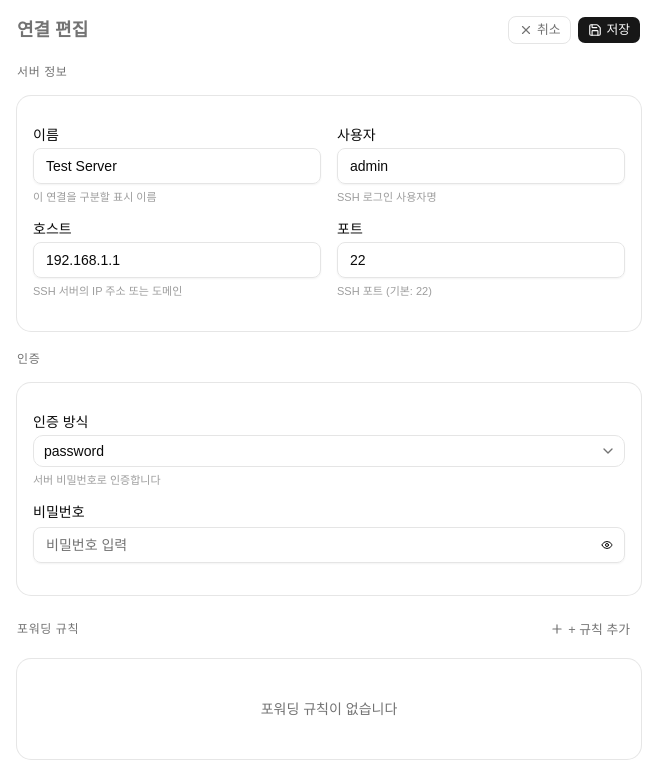
Test: ConnectionForm › shows error message when save fails
The image size is (659, 760).
What coordinates should you click on to do the following:
click the button "저장"
I would click on:
 (609, 30)
Its box is top-left (578, 16), bottom-right (641, 44).
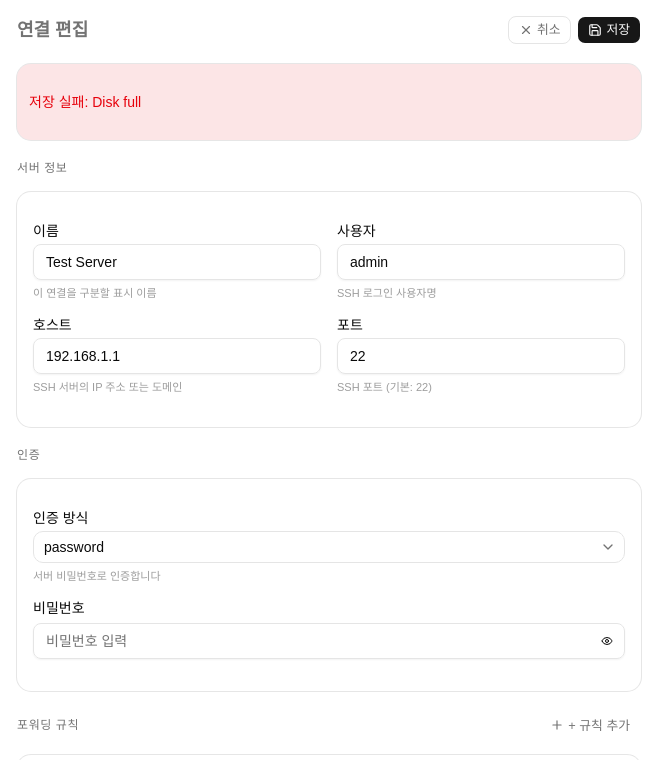
expect the text "저장 실패: Disk full" is shown: met, box top-left (29, 94), bottom-right (141, 110)
